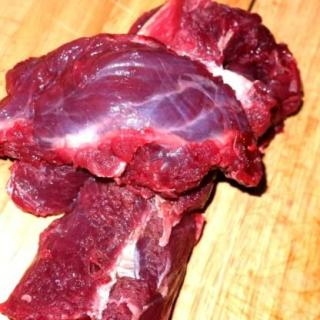Daging Sapi: (2, 1, 305, 320), (3, 36, 268, 191)
